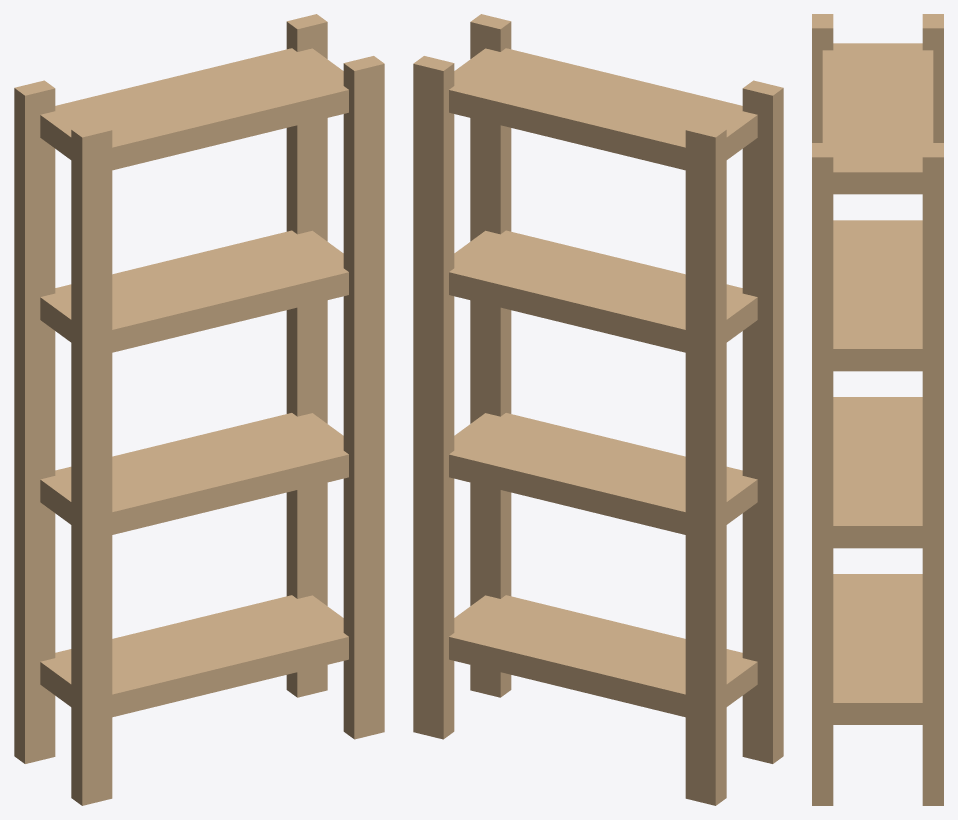
File: bookcase.glb
3 renders of one model, left to right at view 1: azimuth 30°, elevation 25°; view 2: azimuth 150°, elevation 25°; view 3: azimuth 270°, elevation 25°, orthographic. The views are drawn at different scales.
Visible parts, largest first — view 1: bookcase; view 2: bookcase; view 3: bookcase.
Part boxes in pixels (left/top/right/bottom): bookcase: left=14, top=14, right=384, bottom=805; bookcase: left=413, top=14, right=783, bottom=805; bookcase: left=812, top=14, right=943, bottom=805.
Bounding box in the file's own units: 0.9 × 1.9 × 0.35.
